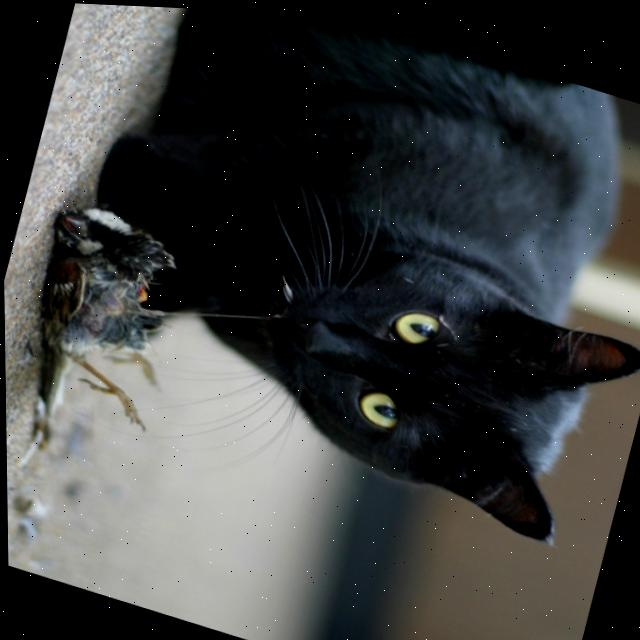Bombay: (29, 1, 640, 561)
